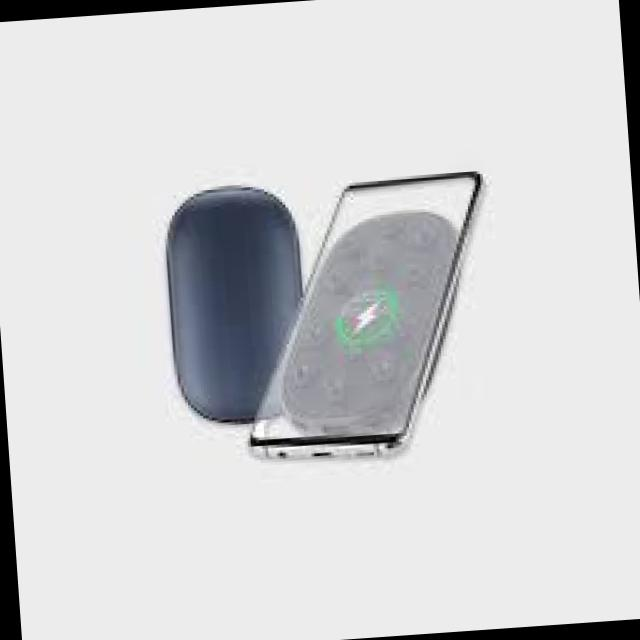power_bank: (160, 179, 320, 434)
